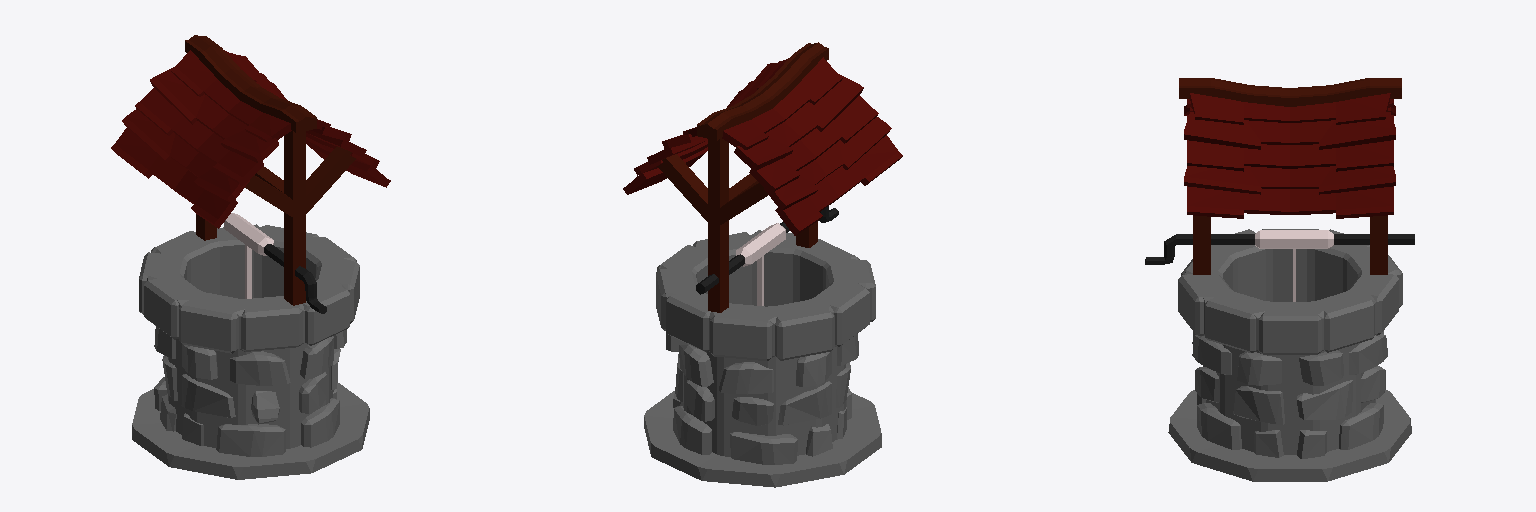
The model's file is Well.obj.
The picture shows the model from 3 angles: view 1: azimuth 30°, elevation 25°; view 2: azimuth 150°, elevation 25°; view 3: azimuth 270°, elevation 25°; orthographic projection.
Visible parts, largest first — view 1: Well; view 2: Well; view 3: Well.
Boxes of the visible parts, box(x1,y1,x2,y2) form: Well: box(111, 35, 390, 479); Well: box(623, 42, 902, 487); Well: box(1145, 78, 1414, 481).
Bounding box in the file's own units: 1.28 × 2.15 × 1.49.